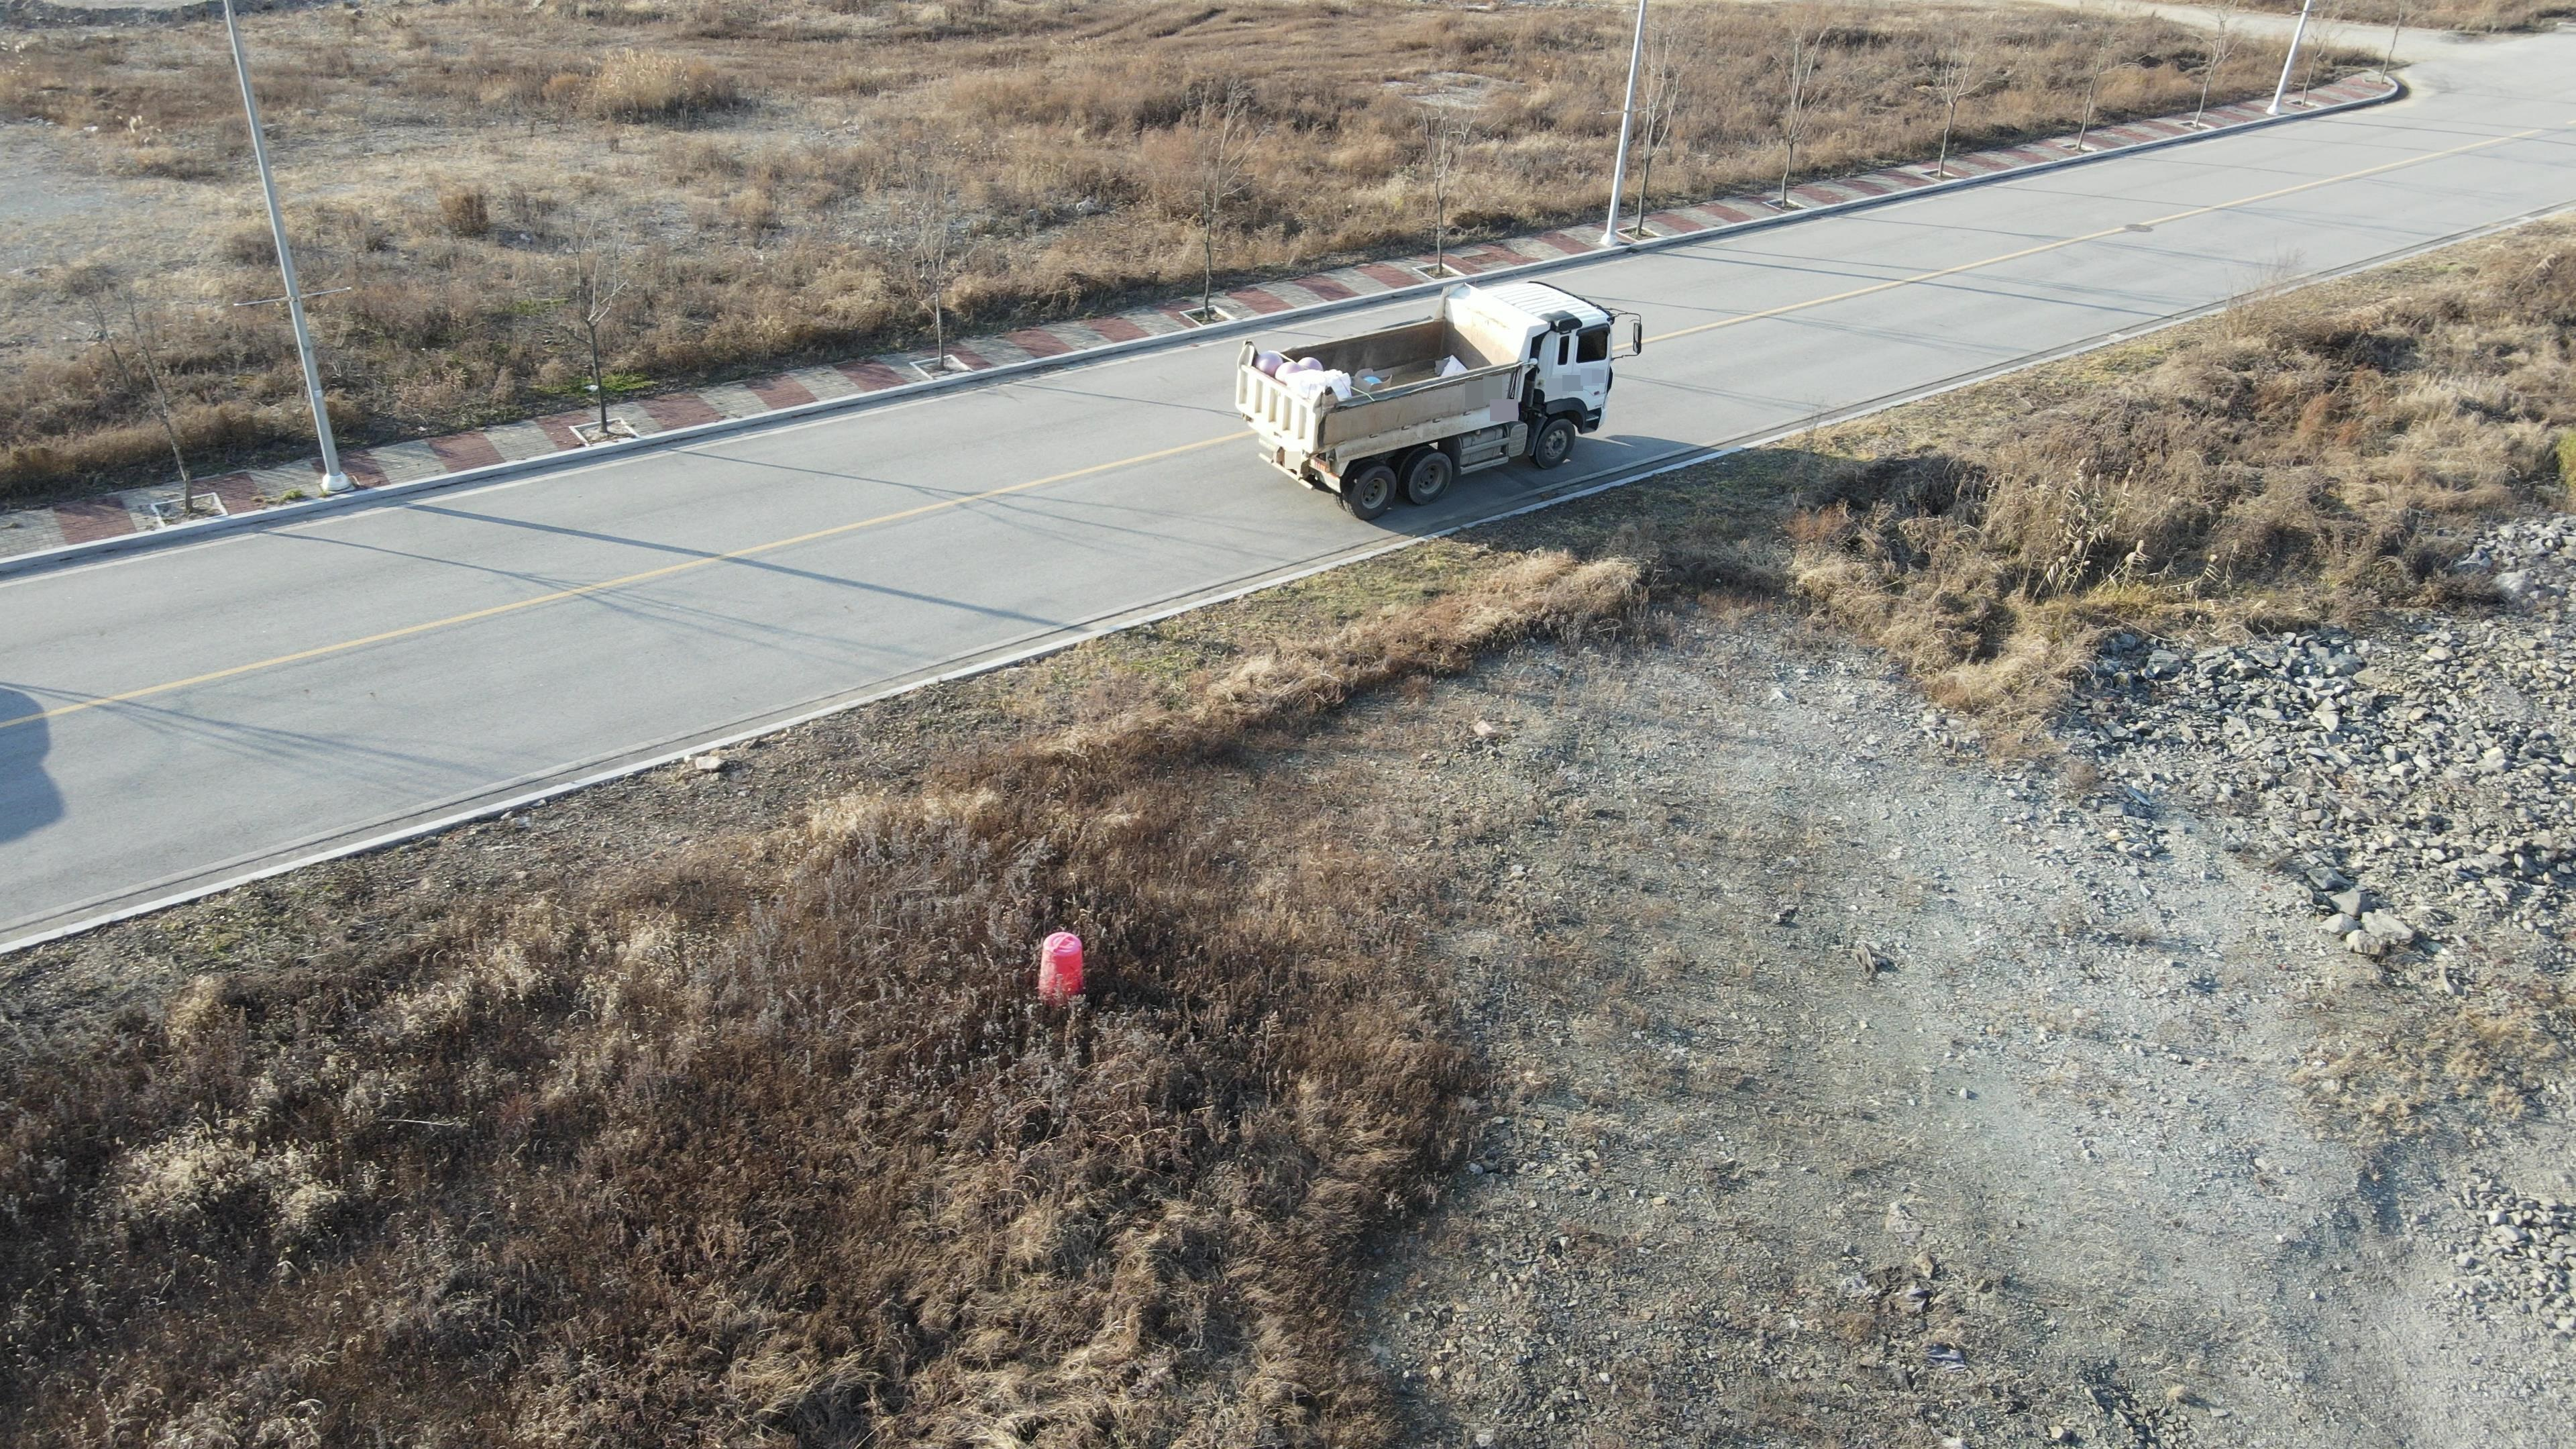불법차량: (1233, 280, 1642, 520)
